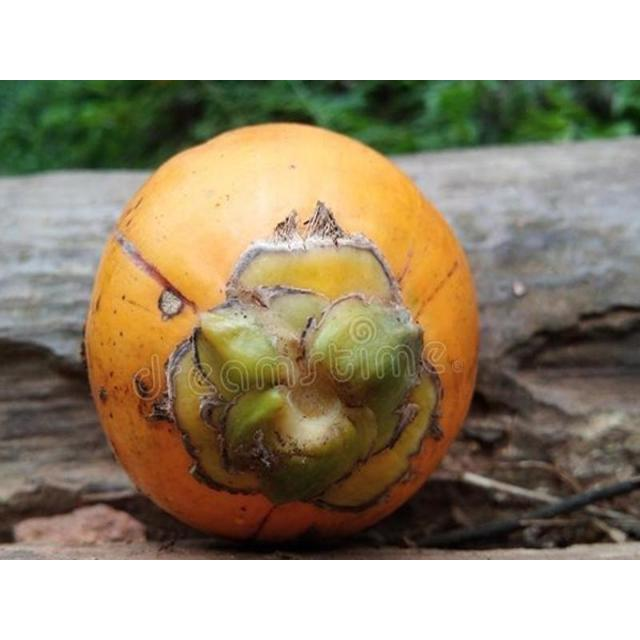good: (82, 124, 481, 548)
